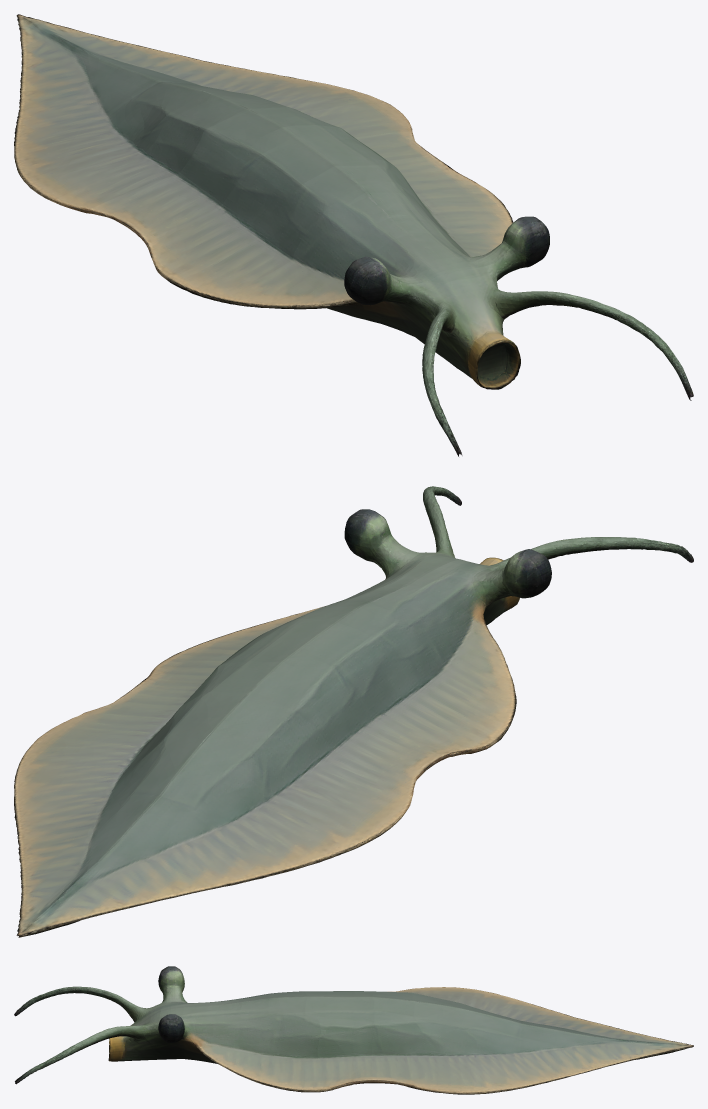
3 renders of one model, top to bottom at view 1: azimuth 30°, elevation 25°; view 2: azimuth 150°, elevation 25°; view 3: azimuth 270°, elevation 25°, orthographic. The views are drawn at different scales.
Parts seen in each view (by area): view 1: world; view 2: world; view 3: world.
Part boxes in pixels (box(x1,y1,x2,y2)): world: box(14, 14, 693, 456); world: box(14, 486, 693, 937); world: box(14, 966, 693, 1094).
Bounding box in the file's own units: 0.3659 × 0.1394 × 1.
1 material, 1 textured.
